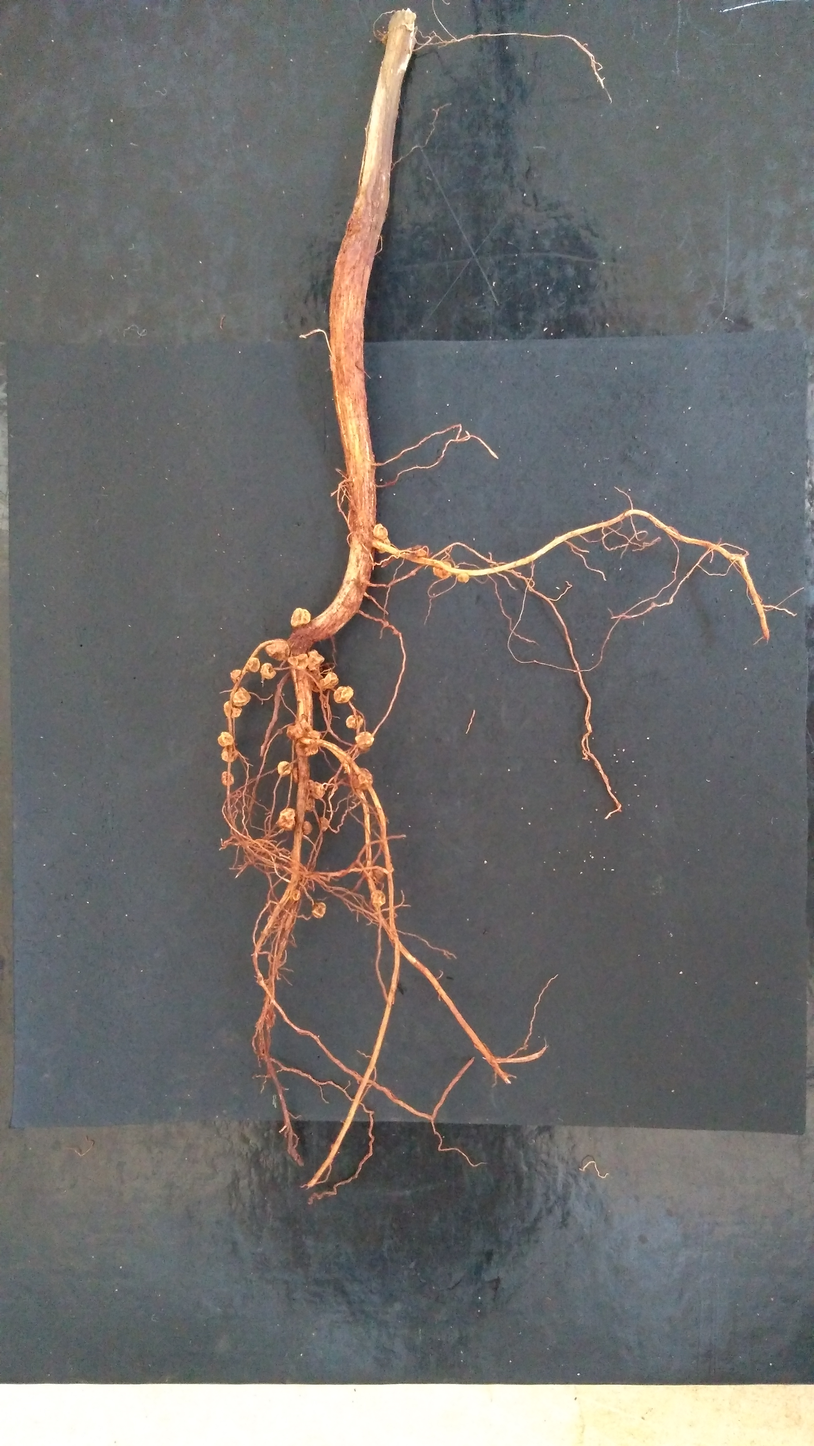nodule: (264, 638, 290, 661), (373, 524, 390, 553), (277, 808, 296, 832), (353, 768, 373, 790), (232, 686, 251, 707), (307, 649, 325, 671), (319, 672, 339, 691), (306, 779, 325, 799), (295, 741, 318, 757), (291, 608, 311, 626), (223, 700, 243, 718), (334, 686, 354, 703), (287, 654, 308, 670), (433, 561, 451, 579), (309, 670, 323, 693), (354, 732, 374, 748), (260, 662, 277, 680), (286, 725, 304, 741), (222, 746, 238, 762), (371, 890, 385, 908), (277, 760, 292, 776), (346, 715, 363, 729), (218, 732, 233, 747), (246, 657, 260, 672), (312, 903, 326, 918), (373, 868, 384, 884), (305, 796, 315, 813), (300, 719, 313, 732), (221, 771, 233, 785), (307, 730, 322, 740), (302, 821, 312, 836), (230, 669, 241, 682), (320, 817, 329, 832), (292, 766, 300, 782), (457, 573, 469, 583), (414, 548, 427, 557), (293, 889, 301, 900), (277, 728, 282, 734)
